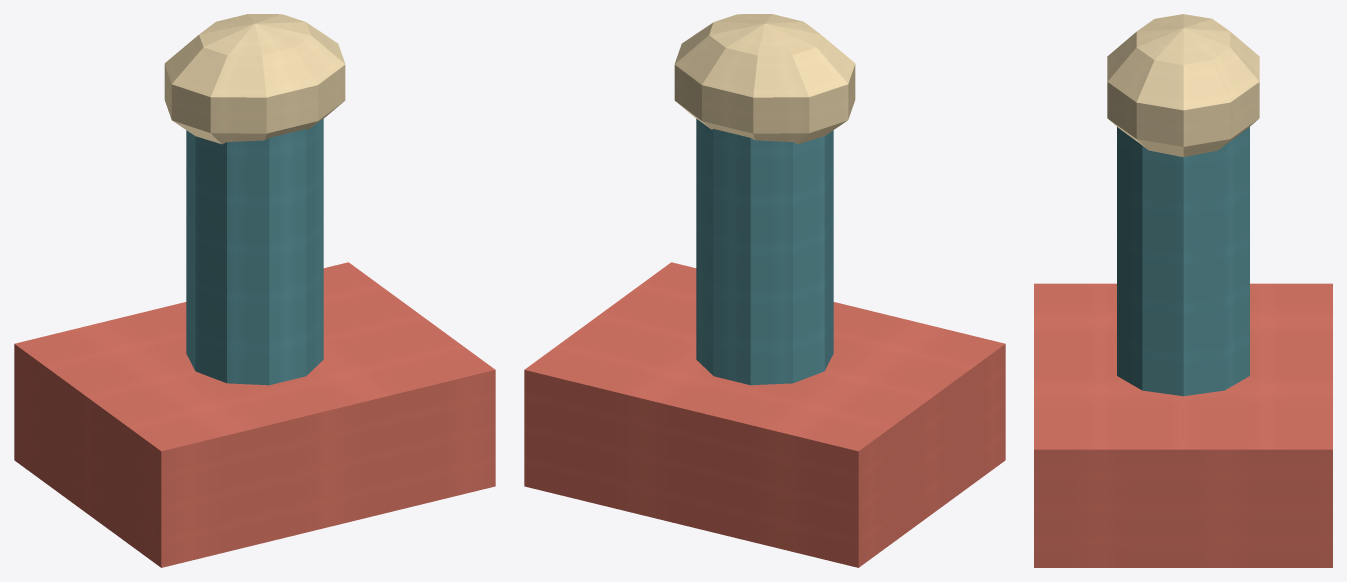
Rendered from atlas100-s074-a05.lod1.glb.
3 views of the same model, side by side, from view 1: azimuth 30°, elevation 25°; view 2: azimuth 150°, elevation 25°; view 3: azimuth 270°, elevation 25° (orthographic).
Visible parts, largest first — view 1: atlas100-s074-a05:part-000, atlas100-s074-a05:part-001, atlas100-s074-a05:part-002; view 2: atlas100-s074-a05:part-000, atlas100-s074-a05:part-001, atlas100-s074-a05:part-002; view 3: atlas100-s074-a05:part-000, atlas100-s074-a05:part-001, atlas100-s074-a05:part-002.
Boxes of the visible parts, <box> form: atlas100-s074-a05:part-000: <box>14,262,495,567</box>; atlas100-s074-a05:part-001: <box>186,118,323,385</box>; atlas100-s074-a05:part-002: <box>164,14,345,144</box>; atlas100-s074-a05:part-000: <box>524,262,1005,567</box>; atlas100-s074-a05:part-001: <box>696,118,833,385</box>; atlas100-s074-a05:part-002: <box>674,14,855,144</box>; atlas100-s074-a05:part-000: <box>1034,283,1332,567</box>; atlas100-s074-a05:part-001: <box>1117,127,1249,396</box>; atlas100-s074-a05:part-002: <box>1107,14,1259,157</box>.
Bounding box in the file's own units: 0.4586 × 0.5897 × 0.3494.
3 materials, 3 textured.
